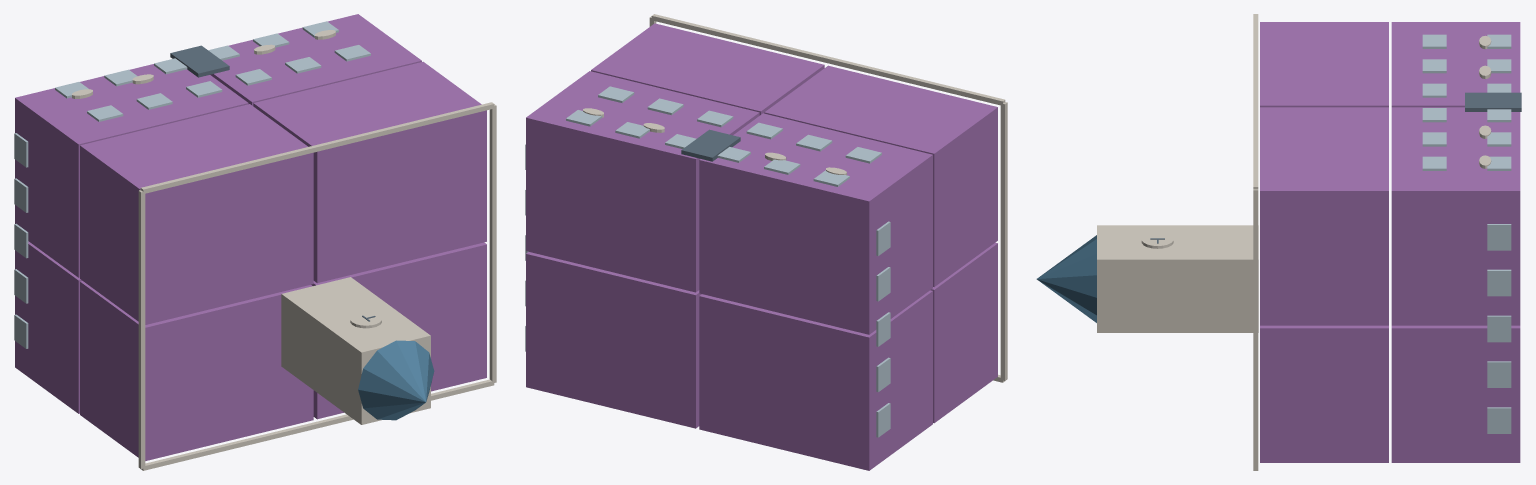
The model's file is building-university.glb.
3 renders of one model, left to right at view 1: azimuth 30°, elevation 25°; view 2: azimuth 150°, elevation 25°; view 3: azimuth 270°, elevation 25°, orthographic.
Visible parts, largest first — view 1: world; view 2: world; view 3: world.
Boxes of the visible parts, x1=… form: world: x1=14, y1=14, x2=496, y2=470; world: x1=525, y1=14, x2=1007, y2=470; world: x1=1036, y1=14, x2=1521, y2=470.
Size of the model in its own units: 20.5 by 15.51 by 24.
